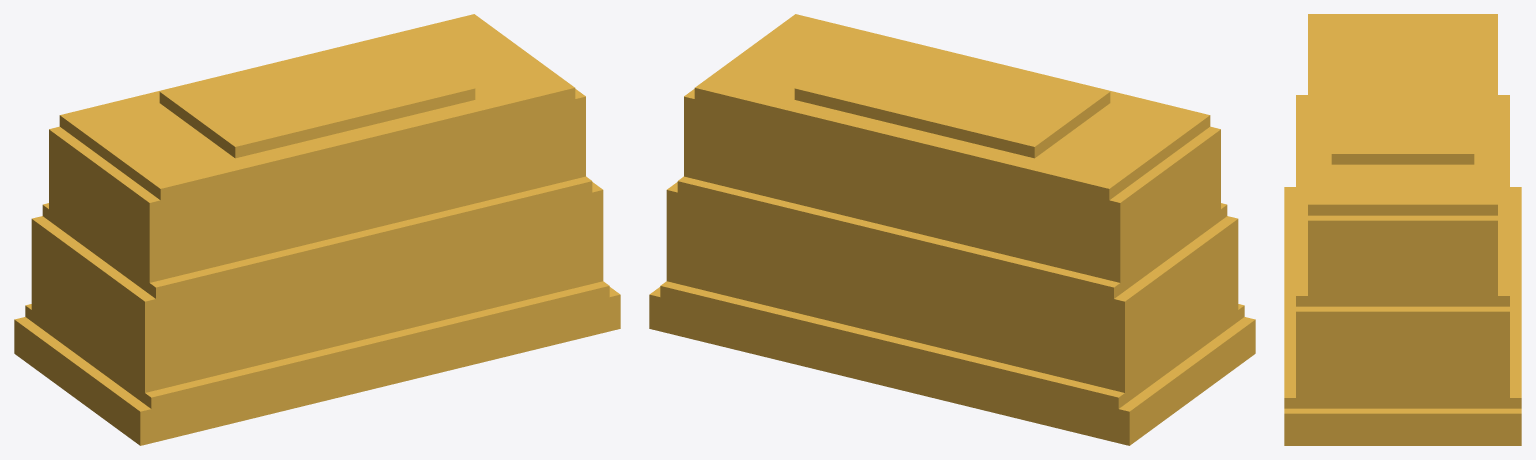
The model's file is ingot_gold.glb.
3 renders of one model, left to right at view 1: azimuth 30°, elevation 25°; view 2: azimuth 150°, elevation 25°; view 3: azimuth 270°, elevation 25°, orthographic. The views are drawn at different scales.
Parts seen in each view (by area): view 1: ingot_gold:compound; view 2: ingot_gold:compound; view 3: ingot_gold:compound.
Part boxes in pixels (bbox=[...]): ingot_gold:compound: bbox=[14, 14, 620, 445]; ingot_gold:compound: bbox=[649, 14, 1255, 445]; ingot_gold:compound: bbox=[1284, 14, 1521, 445].
Size of the model in its own units: 0.176 by 0.088 by 0.08.
